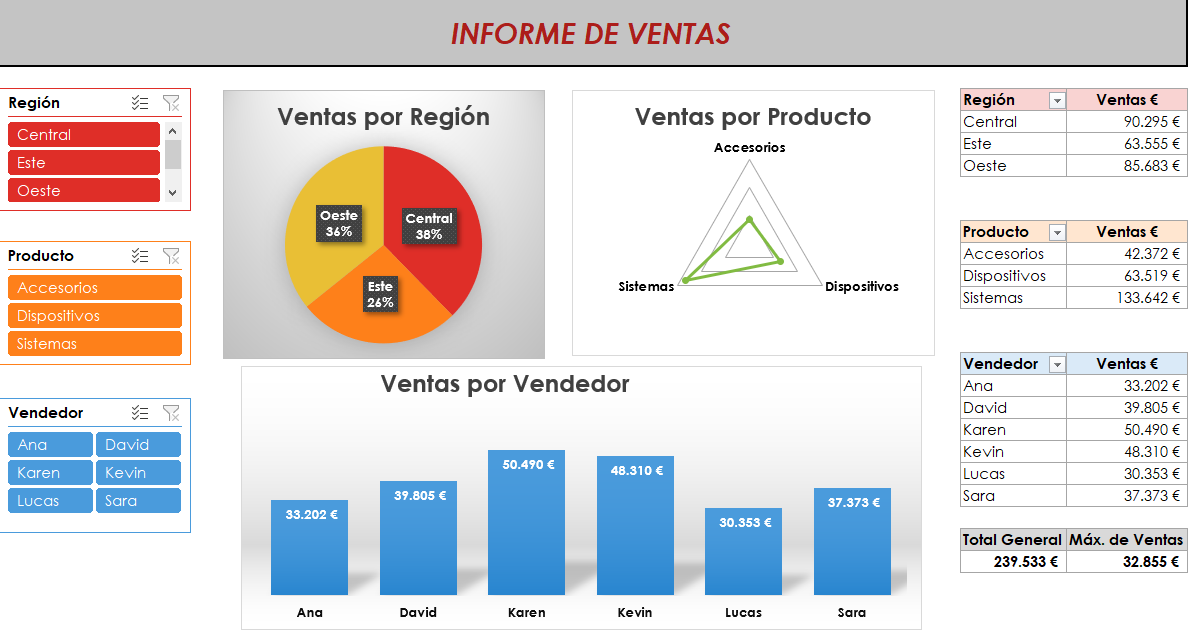

The dashboard page shown, as its layout file describes it:
{"tool":"powerbi","page":{"name":"InformeVentas","canvas":[1280,720],"ordinal":0},"visuals":[{"type":"pivotTable","fields":{"Rows":["Ventas_registro.Producto"],"Values":["Sum(Ventas_registro.Ventas)"]},"box":[11,490.3,264,109.5],"z":0},{"type":"slicer","fields":{"Values":["Ventas_registro.Vendedor"]},"box":[1111.9,117.3,168.6,184.6],"z":1000},{"type":"slicer","fields":{"Values":["Ventas_registro.Producto"]},"box":[1111.9,544.6,168.6,151.5],"z":2000},{"type":"slicer","fields":{"Values":["Ventas_registro.Region"]},"box":[1126.7,337.2,153.8,178.9],"z":3000},{"type":"pivotTable","fields":{"Values":["Sum(Ventas_registro.Ventas)"],"Rows":["Ventas_registro.Region"]},"box":[11,602.3,264,108.3],"z":4000},{"type":"pivotTable","fields":{"Values":["Sum(Ventas_registro.Ventas)"],"Rows":["Ventas_registro.Vendedor"]},"box":[11,315.1,272.5,175.2],"z":5000},{"type":"card","fields":{"Values":["Sum(Ventas_registro.Ventas)"]},"box":[11,107.1,264,96.1],"z":6000},{"type":"card","fields":{"Values":["Max(Ventas_registro.Ventas)"]},"box":[11,219,264,96.1],"z":7000},{"type":"clusteredColumnChart","title":"Suma de Ventas por Vendedor €","fields":{"Category":["Ventas_registro.Vendedor"],"Y":["Sum(Ventas_registro.Ventas)"]},"box":[299.3,453.8,804.3,266.5],"z":8000},{"type":"pieChart","fields":{"Y":["Sum(Ventas_registro.Ventas)"],"Category":["Ventas_registro.Region"]},"box":[283.5,129,431.9,371.1],"z":9000},{"type":"RadarChart1446119667547","fields":{"Category":["Ventas_registro.Producto"],"Y":["Sum(Ventas_registro.Ventas)"]},"box":[676.5,136.3,450.2,363.8],"z":10000}]}

Visuals, with their boxes on the page's 1280x720 design canvas (x1, y1, x2, y2). These are canvas units, not pixel positions in the 1192x643 screenshot, which may show the page scaled, cropped or inside an application window:
pivotTable - Ventas_registro.Producto x Sum(Ventas_registro.Ventas): detection(11, 490, 275, 600)
slicer - Ventas_registro.Vendedor: detection(1112, 117, 1280, 302)
slicer - Ventas_registro.Producto: detection(1112, 545, 1280, 696)
slicer - Ventas_registro.Region: detection(1127, 337, 1280, 516)
pivotTable - Sum(Ventas_registro.Ventas) x Ventas_registro.Region: detection(11, 602, 275, 711)
pivotTable - Sum(Ventas_registro.Ventas) x Ventas_registro.Vendedor: detection(11, 315, 284, 490)
card - Sum(Ventas_registro.Ventas): detection(11, 107, 275, 203)
card - Max(Ventas_registro.Ventas): detection(11, 219, 275, 315)
"Suma de Ventas por Vendedor €" clusteredColumnChart: detection(299, 454, 1104, 720)
pieChart - Sum(Ventas_registro.Ventas) x Ventas_registro.Region: detection(284, 129, 715, 500)
RadarChart1446119667547 - Ventas_registro.Producto x Sum(Ventas_registro.Ventas): detection(676, 136, 1127, 500)
